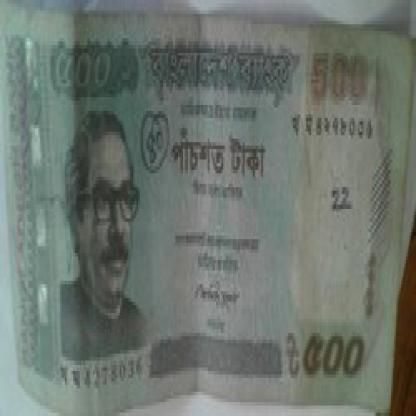500 taka: (161, 104, 280, 191), (37, 28, 138, 111)
currency: (3, 14, 411, 412)
